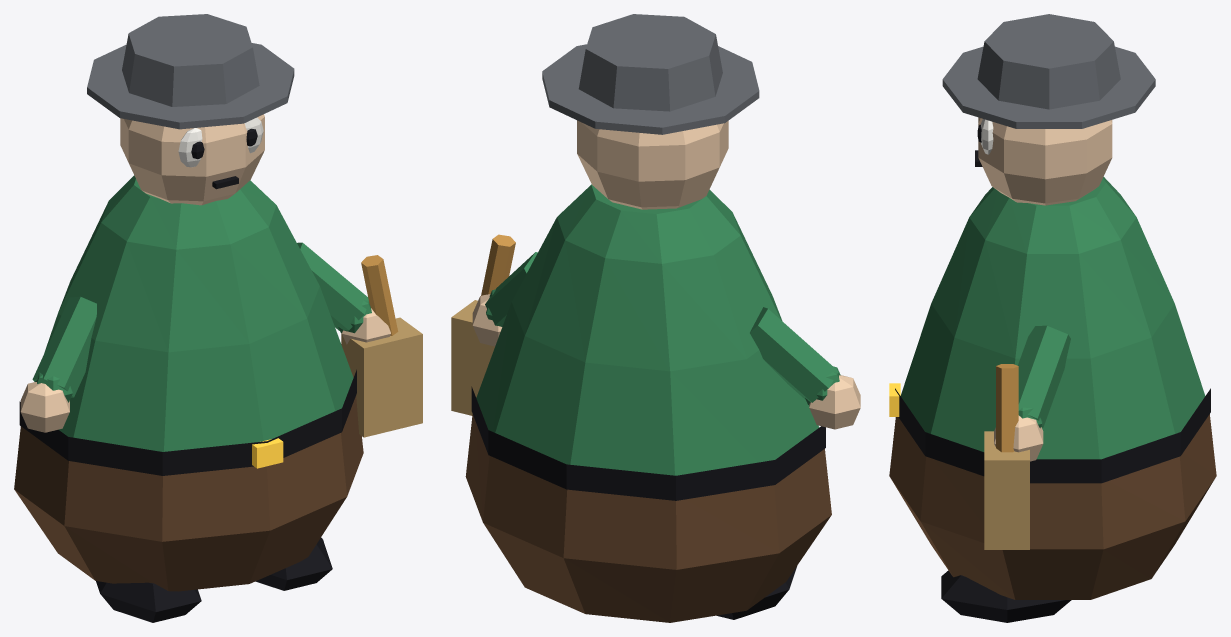
File: npc_cliente.glb
3 renders of one model, left to right at view 1: azimuth 30°, elevation 25°; view 2: azimuth 150°, elevation 25°; view 3: azimuth 270°, elevation 25°, orthographic. The views are drawn at different scales.
Visible parts, largest first — view 1: body_checked_shirt, body_brown_pants, cap_hat_gray (×2), head_skin_crema, body_black, props_paper_bag, arms_checked_shirt, legs_black, arms_skin_crema, props_baguette, face_white, body_gold (+1 smaller); view 2: body_checked_shirt, body_brown_pants, cap_hat_gray (×2), head_skin_crema, body_black, arms_checked_shirt, props_paper_bag, arms_skin_crema, props_baguette, legs_black; view 3: body_checked_shirt, body_brown_pants, cap_hat_gray (×2), head_skin_crema, body_black, props_paper_bag, arms_checked_shirt, legs_black, props_baguette, arms_skin_crema.
Boxes of the visible parts, x1,y1,x2,y2 form: body_checked_shirt: (44,175,353,451); body_brown_pants: (14,395,363,591); cap_hat_gray (×2): (87,14,294,129); head_skin_crema: (120,114,264,205); body_black: (19,369,356,475); props_paper_bag: (341,317,422,437); arms_checked_shirt: (32,242,371,402); legs_black: (96,537,332,622); arms_skin_crema: (20,308,390,432); props_baguette: (361,255,398,335); face_white: (178,117,263,167); body_gold: (252,438,283,468); body_checked_shirt: (476,184,818,475); body_brown_pants: (465,414,831,622); cap_hat_gray (×2): (542,14,759,134); head_skin_crema: (577,120,728,209); body_black: (471,386,825,500); arms_checked_shirt: (485,252,840,404); props_paper_bag: (451,300,494,415); arms_skin_crema: (472,294,860,429); props_baguette: (481,234,515,295); legs_black: (717,566,796,619); body_checked_shirt: (900,177,1205,459); body_brown_pants: (889,414,1216,599); cap_hat_gray (×2): (942,14,1155,128); head_skin_crema: (978,117,1112,205); body_black: (895,388,1210,483); props_paper_bag: (984,431,1029,549); arms_checked_shirt: (1018,325,1070,428); legs_black: (941,570,1071,622); props_baguette: (996,364,1018,452); arms_skin_crema: (994,415,1043,461).
Size of the model in its own units: 1.18 by 1.57 by 0.86.
